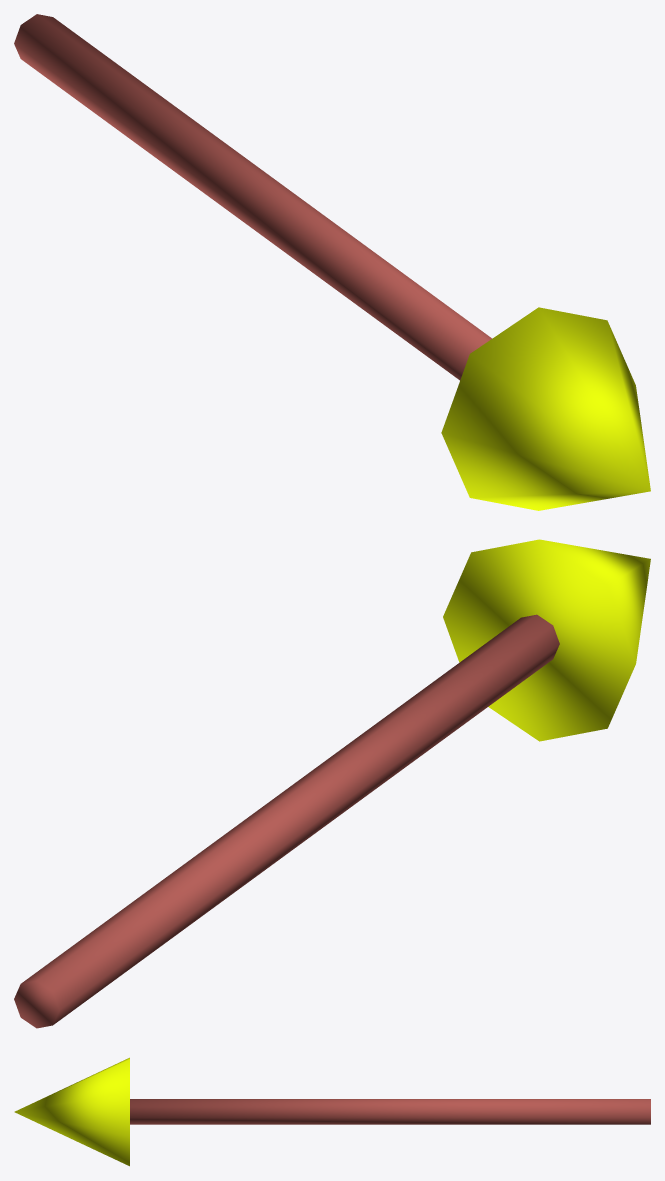
3 views of the same model, one above another, from view 1: azimuth 30°, elevation 25°; view 2: azimuth 150°, elevation 25°; view 3: azimuth 270°, elevation 25° (orthographic). The views are drawn at different scales.
Parts seen in each view (by area): view 1: ßßß; view 2: ßßß; view 3: ßßß.
Boxes of the visible parts, x1=… form: ßßß: x1=14, y1=14, x2=650, y2=510; ßßß: x1=14, y1=539, x2=650, y2=1028; ßßß: x1=14, y1=1057, x2=650, y2=1166.
Size of the model in its own units: 72.7 by 72.7 by 399.
